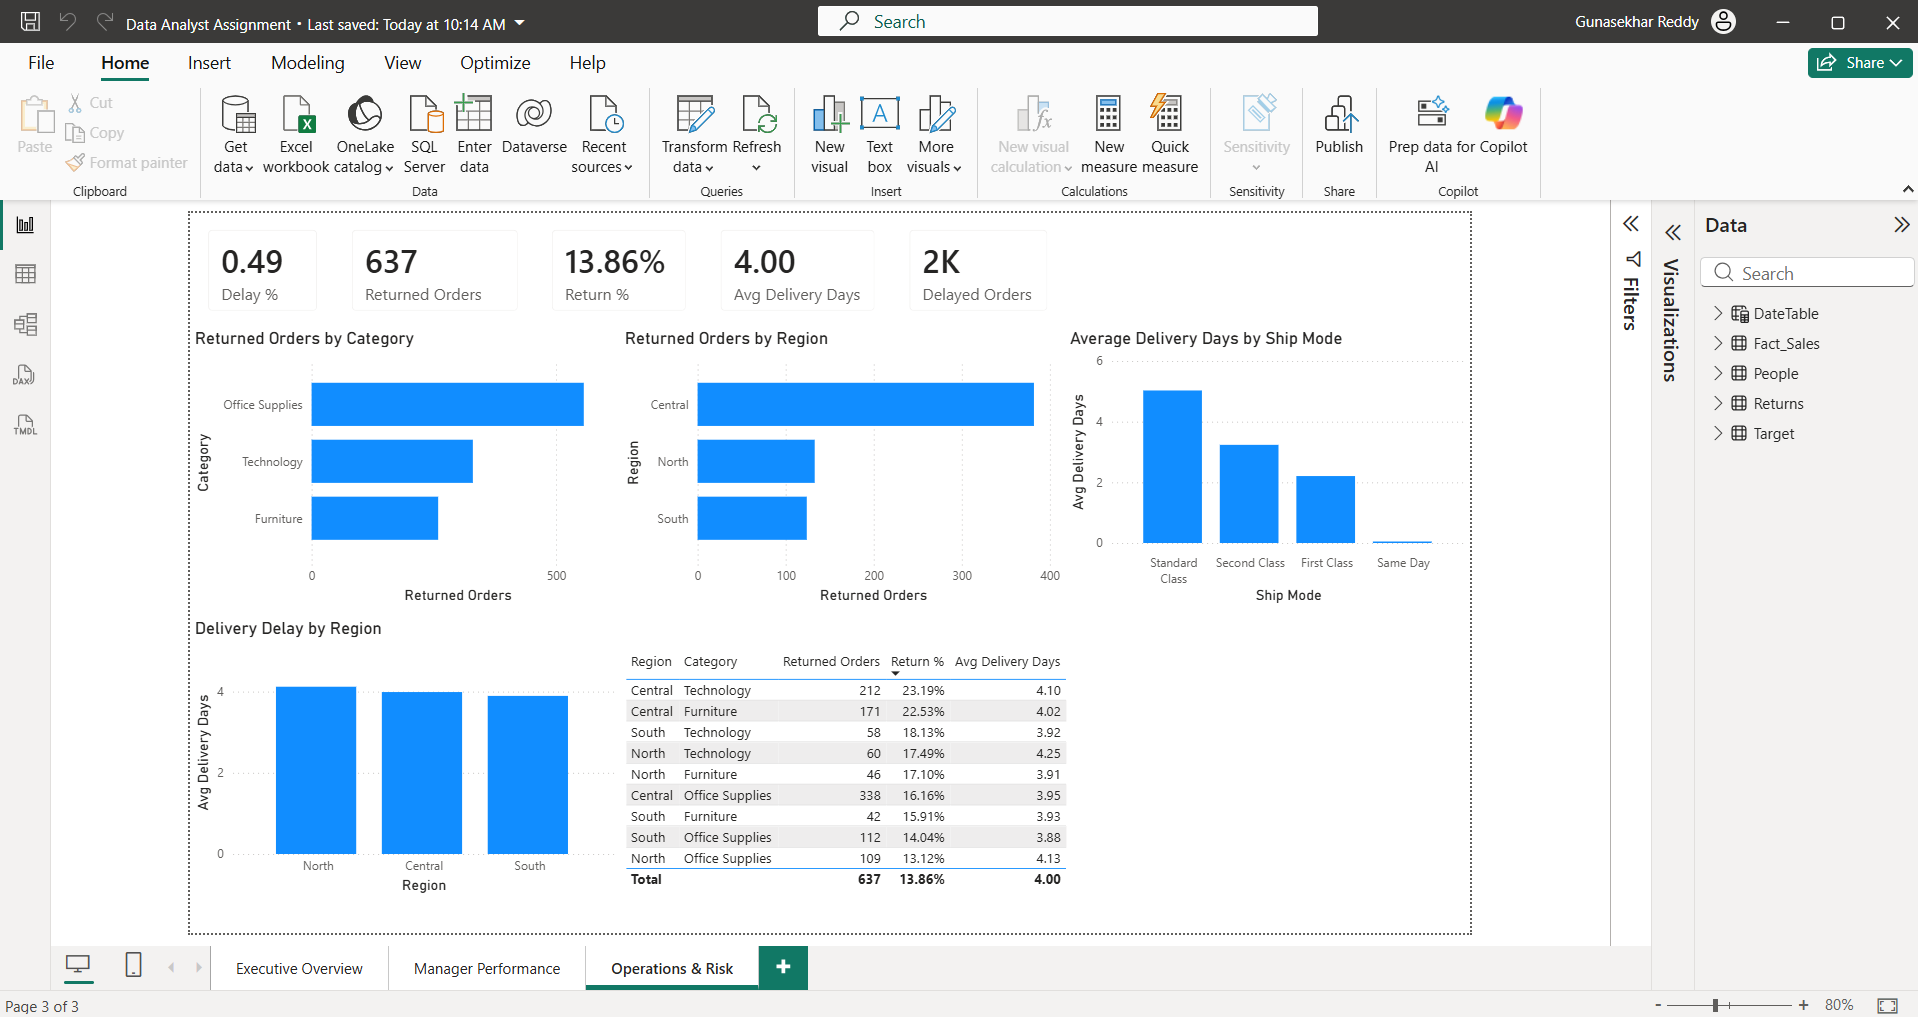

Layout of this report page (visuals, bound fields, positions):
{"tool":"powerbi","page":{"name":"Operations & Risk","canvas":[1280,720],"ordinal":2},"visuals":[{"type":"clusteredBarChart","fields":{"Category":["Fact_Sales.Region"],"Y":["DateTable.Returned Orders"]},"box":[430,115,445,280],"z":0},{"type":"clusteredBarChart","fields":{"Category":["Fact_Sales.Category"],"Y":["DateTable.Returned Orders"]},"box":[0,115,430,280],"z":1000},{"type":"cardVisual","fields":{"Data":["DateTable.Returned Orders"]},"box":[145,0,200,115],"z":2000},{"type":"cardVisual","fields":{"Data":["DateTable.Return %"]},"box":[345,0,168.8,115],"z":3000},{"type":"cardVisual","fields":{"Data":["Fact_Sales.Avg Delivery Days"]},"box":[513.8,0,188.8,115],"z":4000},{"type":"cardVisual","fields":{"Data":["Fact_Sales.Delayed Orders"]},"box":[702.5,0,172.5,115],"z":5000},{"type":"cardVisual","fields":{"Data":["Fact_Sales.Delay %"]},"box":[1.2,0,143.8,115],"z":6000},{"type":"clusteredColumnChart","title":"Average Delivery Days by Ship Mode","fields":{"Category":["Fact_Sales.Ship Mode"],"Y":["Fact_Sales.Avg Delivery Days"]},"box":[875,115,405,280],"z":7000},{"type":"clusteredColumnChart","title":"Delivery Delay by Region","fields":{"Category":["Fact_Sales.Region"],"Y":["Fact_Sales.Avg Delivery Days"]},"box":[0,405,430,280],"z":8000},{"type":"tableEx","fields":{"Values":["Fact_Sales.Region","Fact_Sales.Category","DateTable.Returned Orders","DateTable.Return %","Fact_Sales.Avg Delivery Days"]},"box":[430,432.5,457.5,252.5],"z":9000}]}

Visuals, with their boxes on the page's 1280x720 design canvas (x1, y1, x2, y2). These are canvas units, not pixel positions in the 1918x1017 screenshot, which may show the page scaled, cropped or inside an application window:
clusteredBarChart - Fact_Sales.Region x DateTable.Returned Orders: locate(430, 115, 875, 395)
clusteredBarChart - Fact_Sales.Category x DateTable.Returned Orders: locate(0, 115, 430, 395)
cardVisual - DateTable.Returned Orders: locate(145, 0, 345, 115)
cardVisual - DateTable.Return %: locate(345, 0, 514, 115)
cardVisual - Fact_Sales.Avg Delivery Days: locate(514, 0, 703, 115)
cardVisual - Fact_Sales.Delayed Orders: locate(702, 0, 875, 115)
cardVisual - Fact_Sales.Delay %: locate(1, 0, 145, 115)
"Average Delivery Days by Ship Mode" clusteredColumnChart: locate(875, 115, 1280, 395)
"Delivery Delay by Region" clusteredColumnChart: locate(0, 405, 430, 685)
tableEx - Fact_Sales.Region x Fact_Sales.Category: locate(430, 432, 888, 685)
